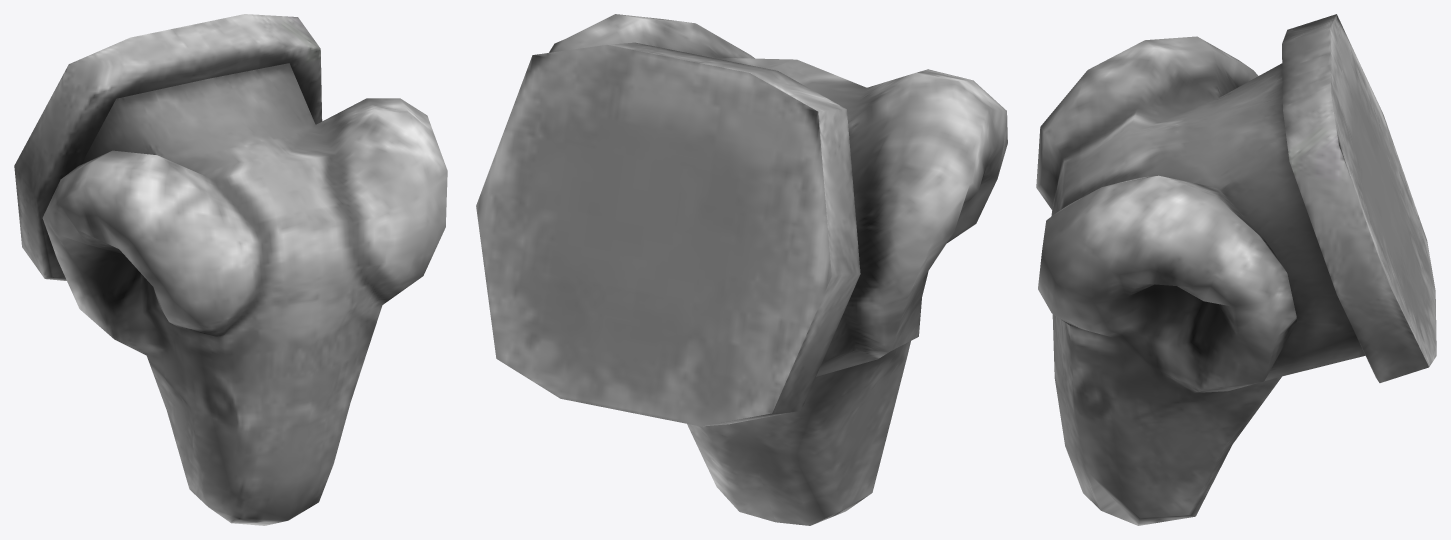
File: weapon-ironweapons.glb
The picture shows the model from 3 angles, left to right: view 1: azimuth 30°, elevation 25°; view 2: azimuth 150°, elevation 25°; view 3: azimuth 270°, elevation 25°; orthographic projection. The views are drawn at different scales.
Bounding box in the file's own units: 0.3964 × 0.4539 × 0.3546.
Materials: 1 (1 with a texture image).
